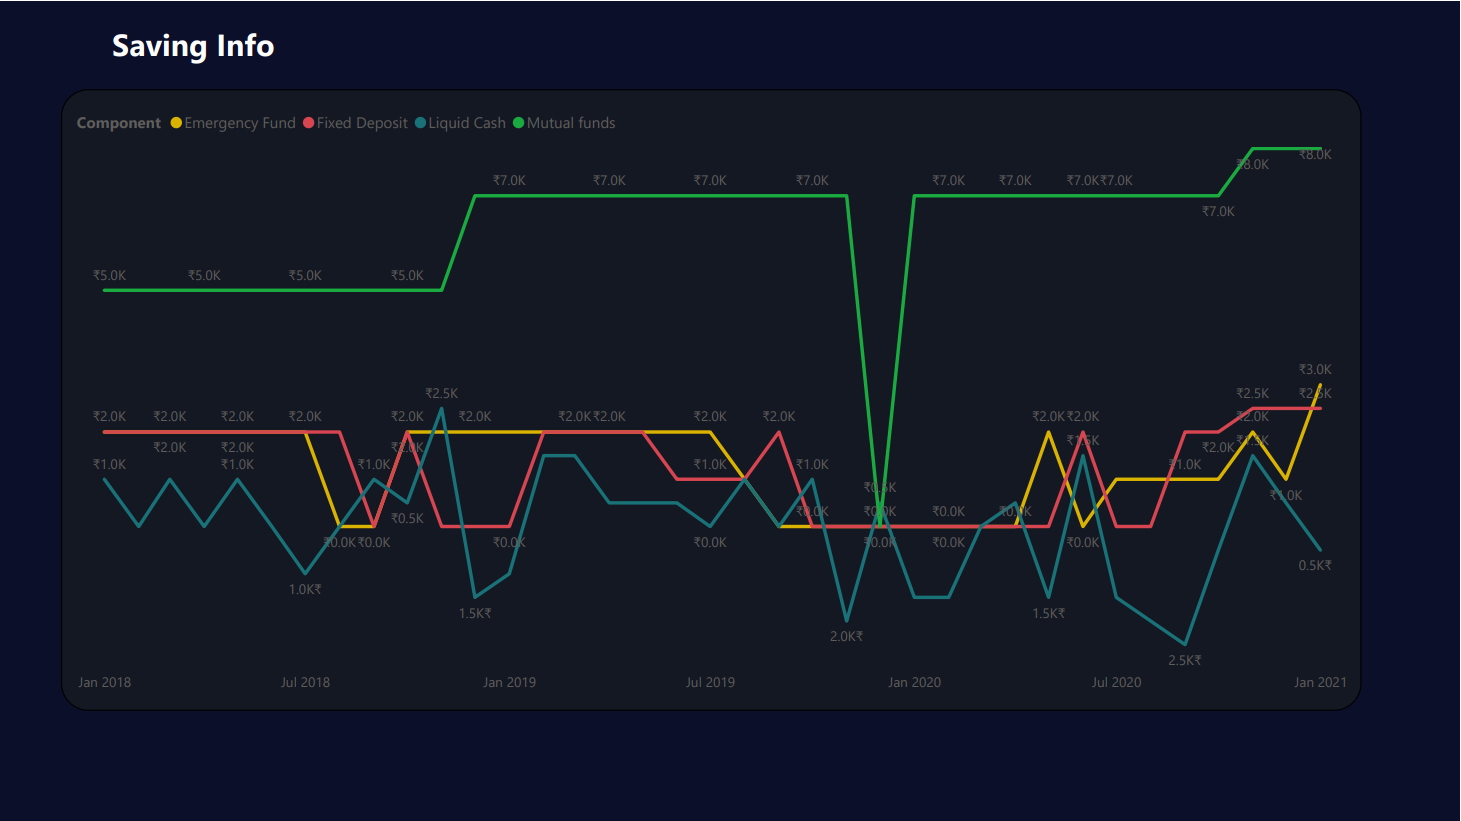

This screenshot's page, from the dashboard's own definition file:
{"tool":"powerbi","page":{"name":"Saving info","canvas":[1280,720],"ordinal":2},"visuals":[{"type":"lineChart","fields":{"Series":["FinData.Component"],"Category":["FinData.Date"],"Y":["Key Measures.Total Saving"]},"box":[54.4,77.2,1139.1,544.3],"z":0},{"type":"textbox","box":[94.2,14,300,46.5],"z":1000}]}

Visuals, with their boxes in screenshot pixels (x1, y1, x2, y2), scaled from the page's 1280x720 canvas onto the 1461x821 screenshot:
lineChart - FinData.Component x FinData.Date: [62,88,1362,709]
textbox: [108,16,450,69]
